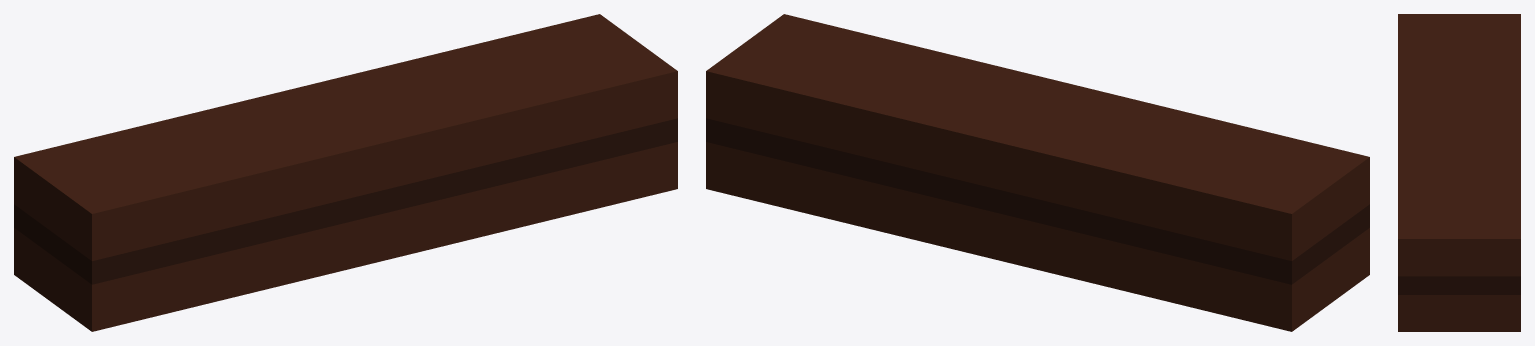
File: long_gun_part.obj
3 renders of one model, left to right at view 1: azimuth 30°, elevation 25°; view 2: azimuth 150°, elevation 25°; view 3: azimuth 270°, elevation 25°, orthographic. The views are drawn at different scales.
Size of the model in its own units: 2.6 by 0.5 by 0.6.
Materials: 1 (1 with a texture image).
